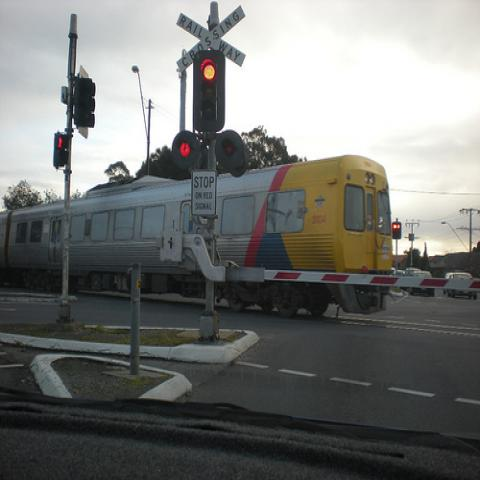car: (442, 272, 477, 300), (410, 271, 435, 297), (404, 268, 418, 276), (392, 270, 405, 276)
